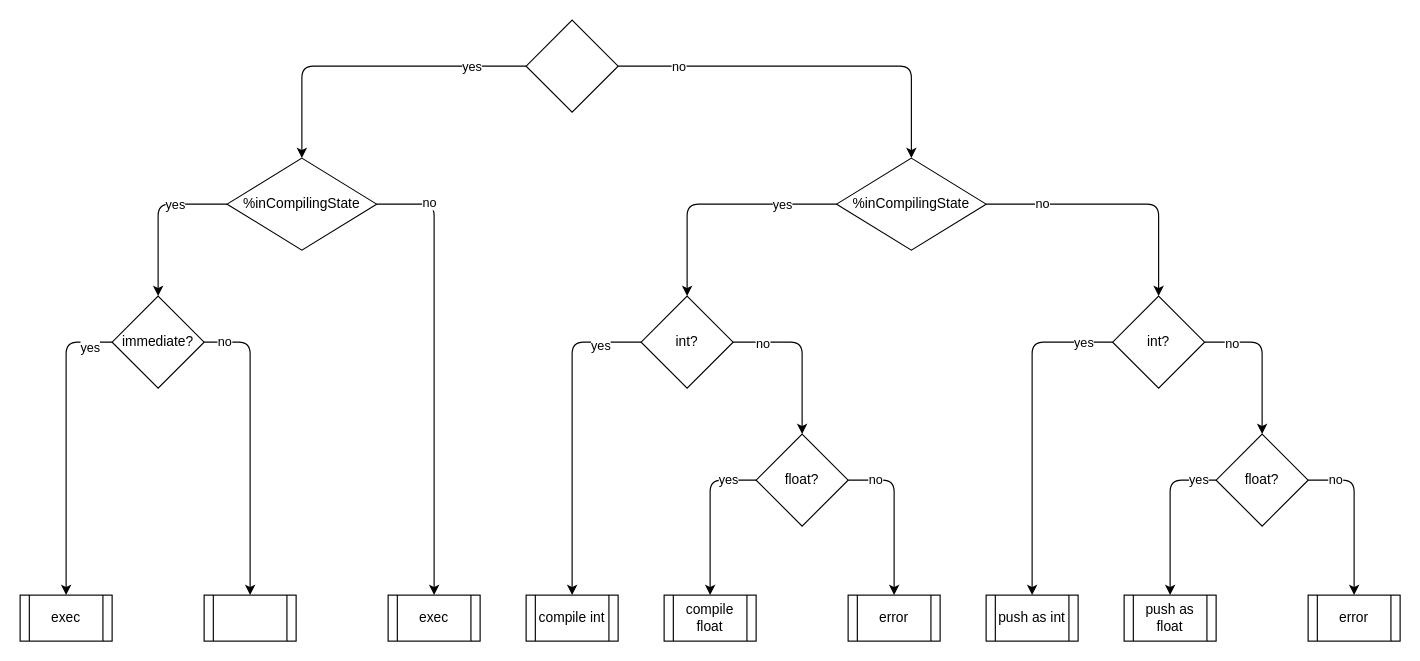
The diagram is 1420 pixels wide and 661 high, and some of its shapes have lost their labels. The shapes that lost their labels are listed below. From the top down, each one's centre as x and y in pixels, then its label:
At (571,65): "found".
At (249,617): "compile word".
